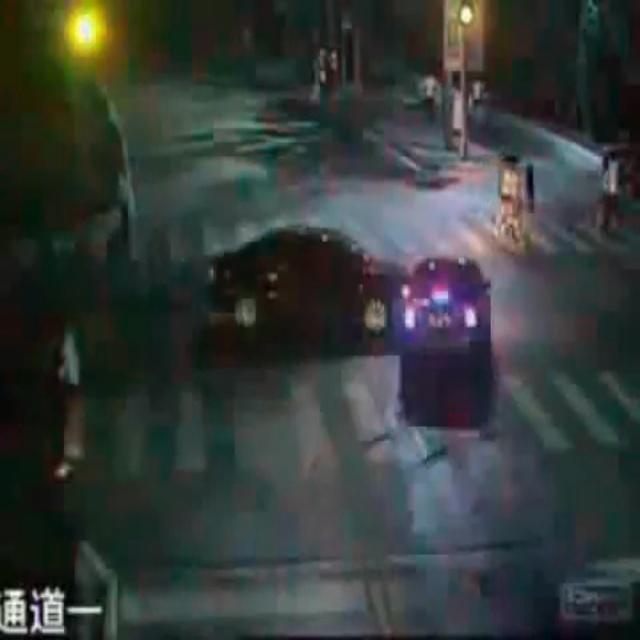acc: (200, 222, 497, 360)
